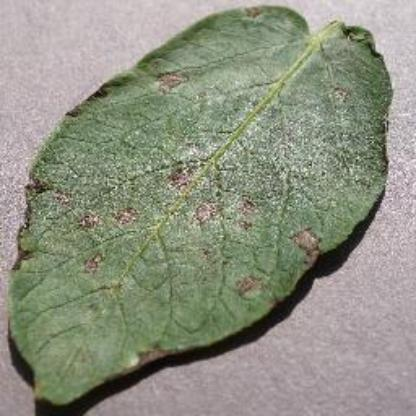Early-Blight: (7, 3, 395, 405)
